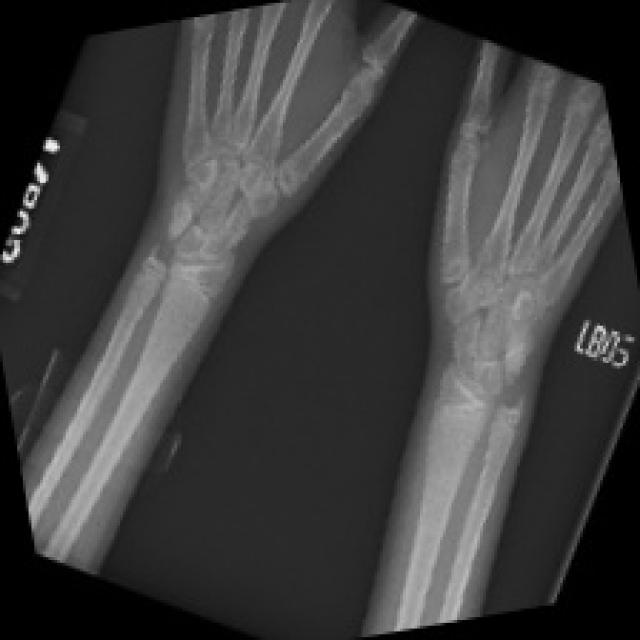fracture: (487, 338, 553, 458), (138, 203, 216, 296)
